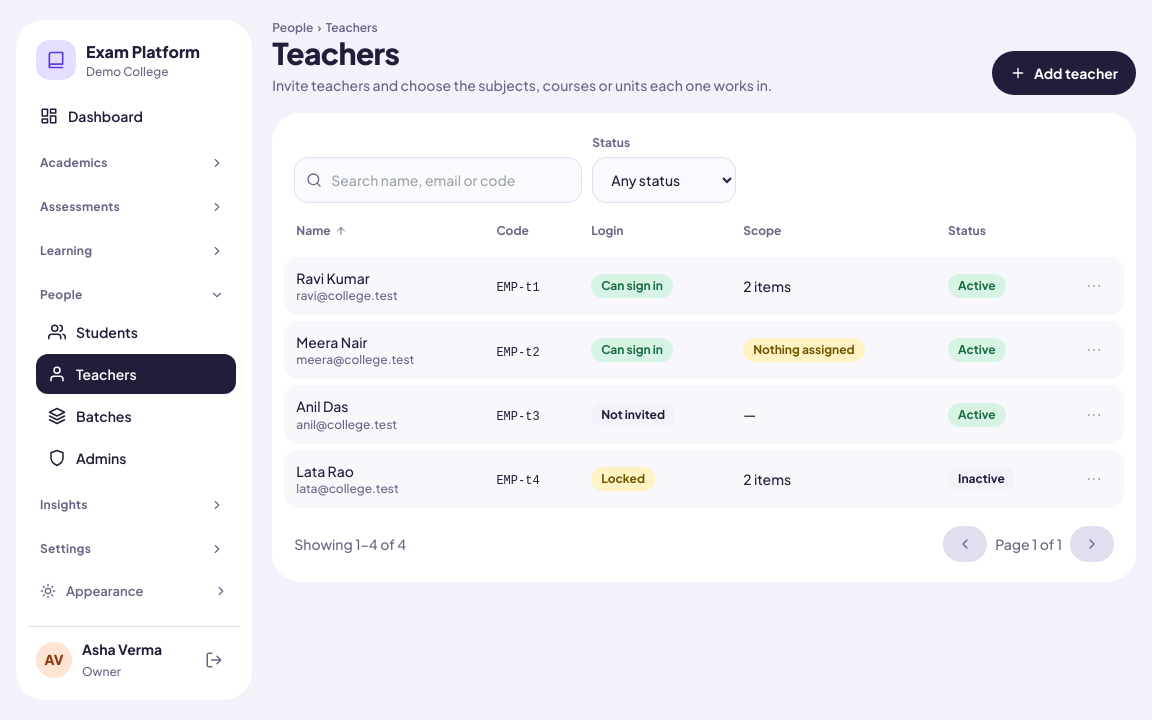
it: Teachers page › removes a teacher after confirmation
Check: the text "Meera Nair" is shown, box [296,333,367,351]
Click the button named "Actions for Meera Nair" at point(1094, 350), box [1076,332,1112,368]
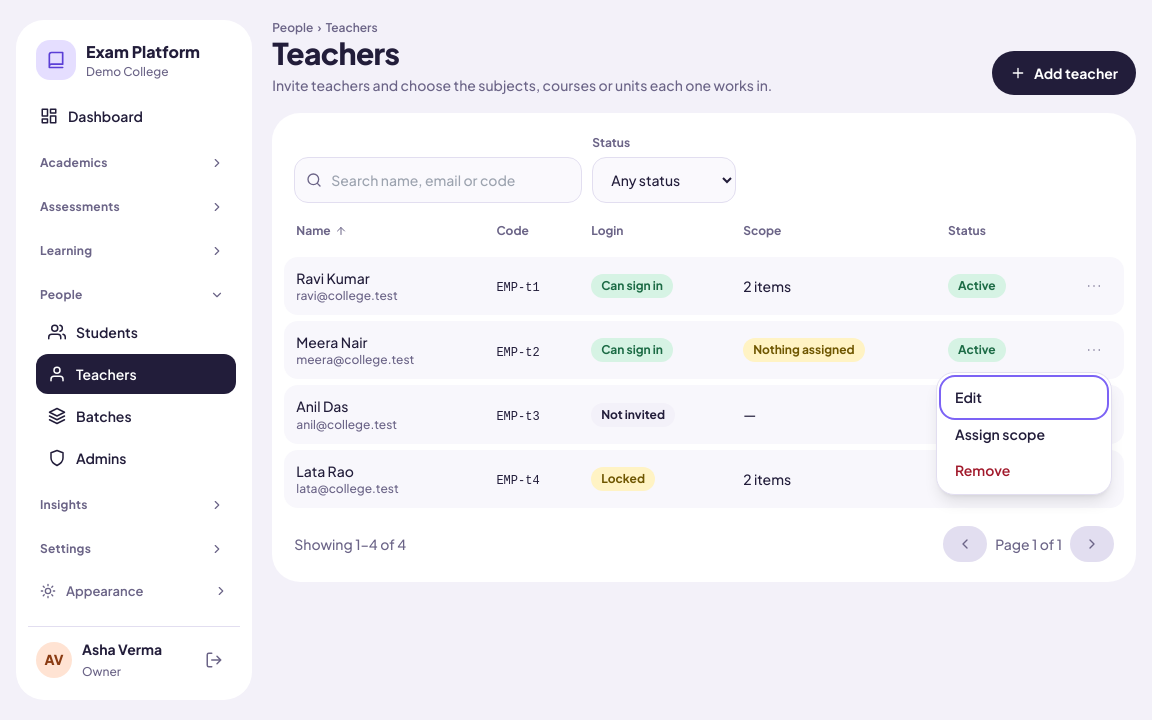
Click the menu item "Remove" at point(1024, 470), box [943,452,1105,488]
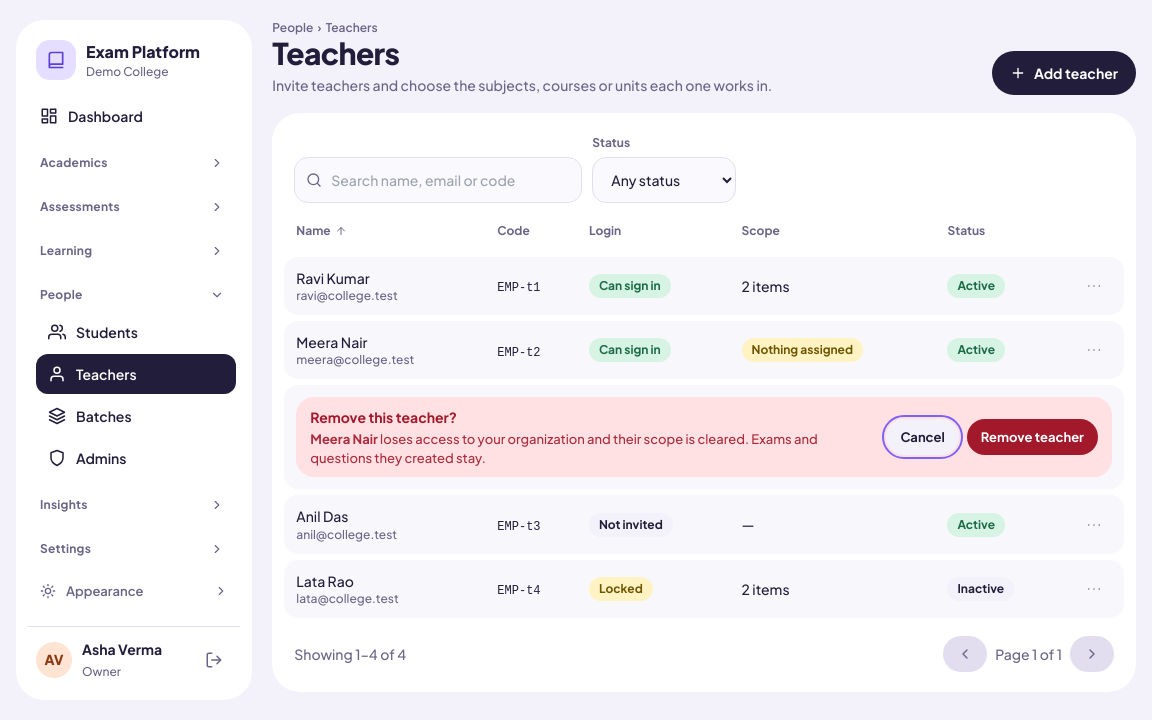
Check: the element "Remove this teacher?" shows "loses access to your organization", box [310,431,818,466]
Click the button "Remove teacher" at point(1032, 437), box [967,419,1098,455]
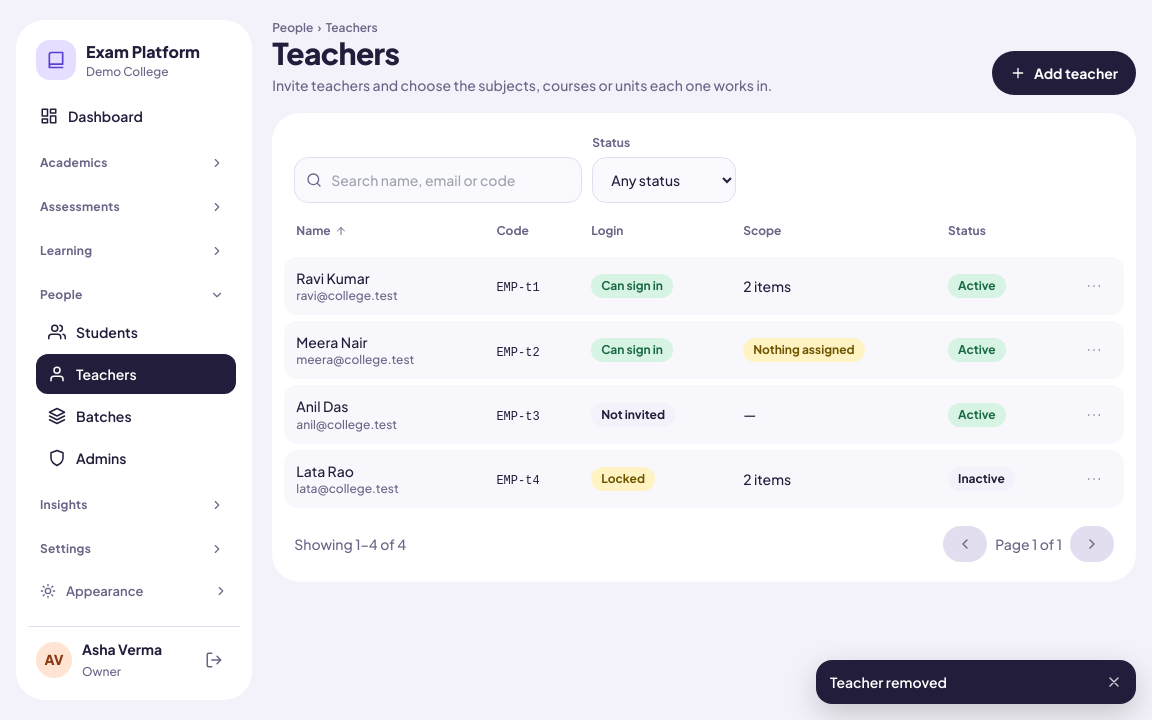
Check: the text "Teacher removed" is shown, box [830,673,947,691]
